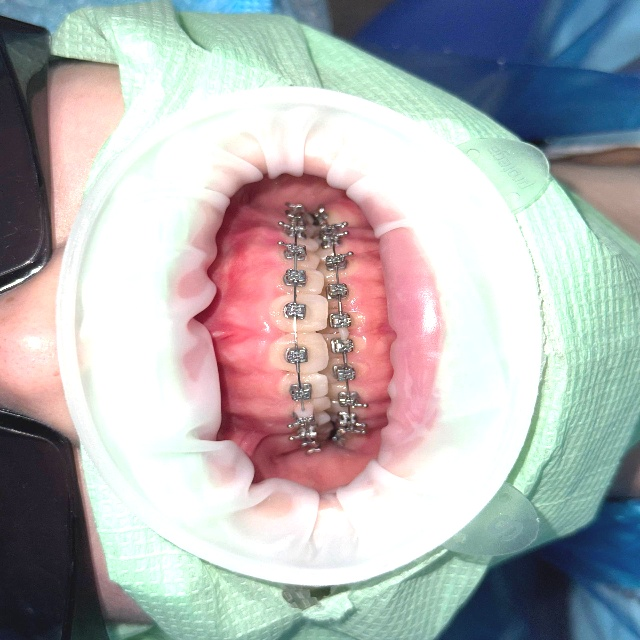clean_tooth: (208, 120, 303, 183), (59, 279, 92, 383)
plaque: (353, 0, 639, 149), (571, 498, 639, 639), (173, 0, 330, 30), (0, 0, 89, 24)
